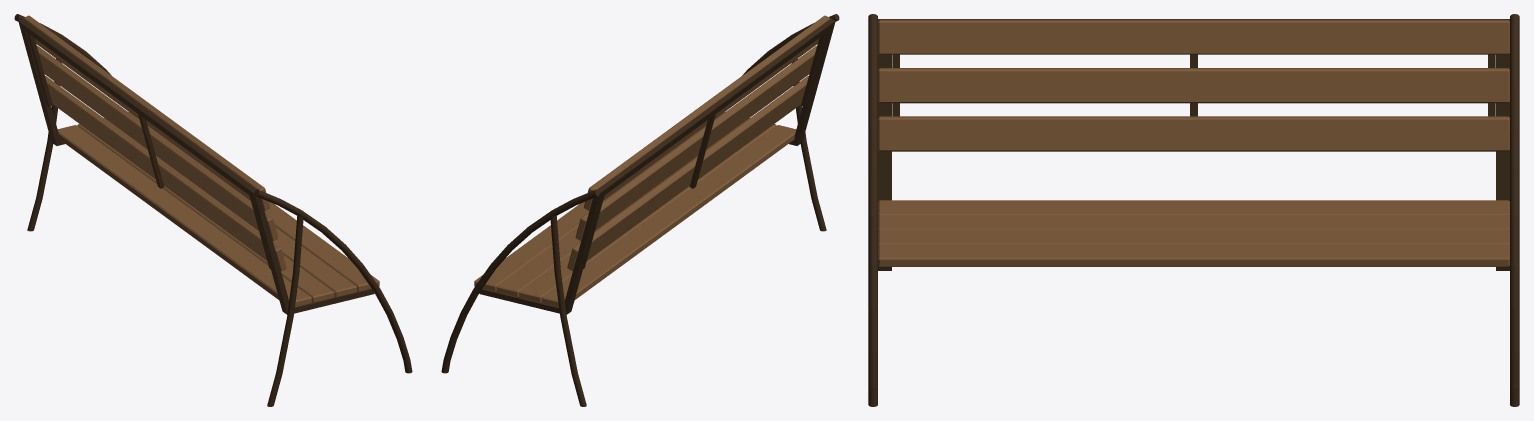
3 views of the same model, side by side, from view 1: azimuth 30°, elevation 25°; view 2: azimuth 150°, elevation 25°; view 3: azimuth 270°, elevation 25° (orthographic). The views are drawn at different scales.
Visible parts, largest first — view 1: B-23; view 2: B-23; view 3: B-23.
Boxes of the visible parts, <box> form: B-23: <box>14,14,412,406</box>; B-23: <box>441,14,839,406</box>; B-23: <box>868,14,1519,406</box>.
Bounding box in the file's own units: 76.52 × 102 × 206.
